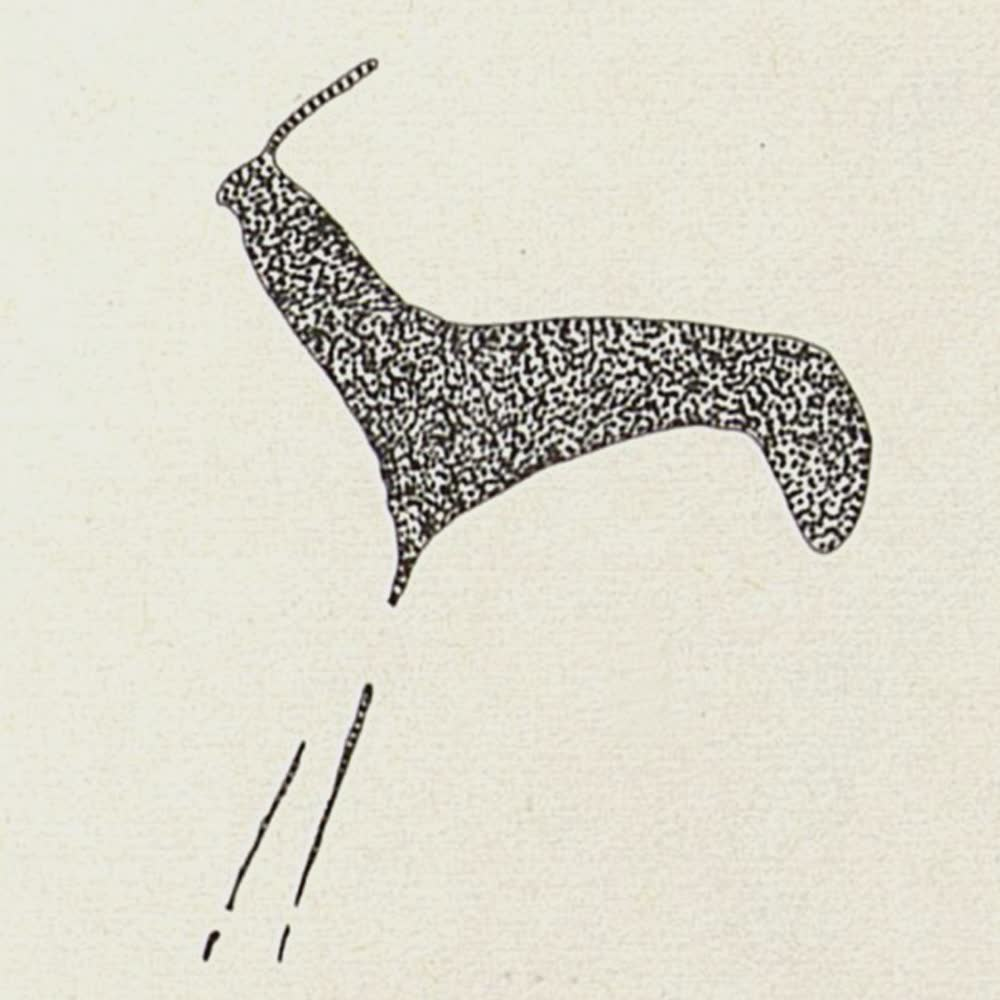animal: (197, 54, 875, 968)
